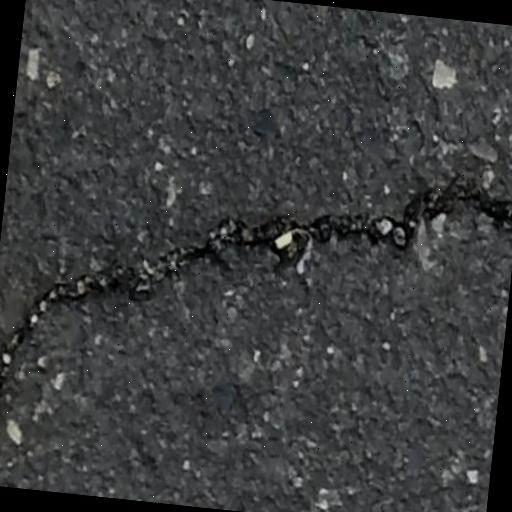spalling: (0, 174, 512, 418)
